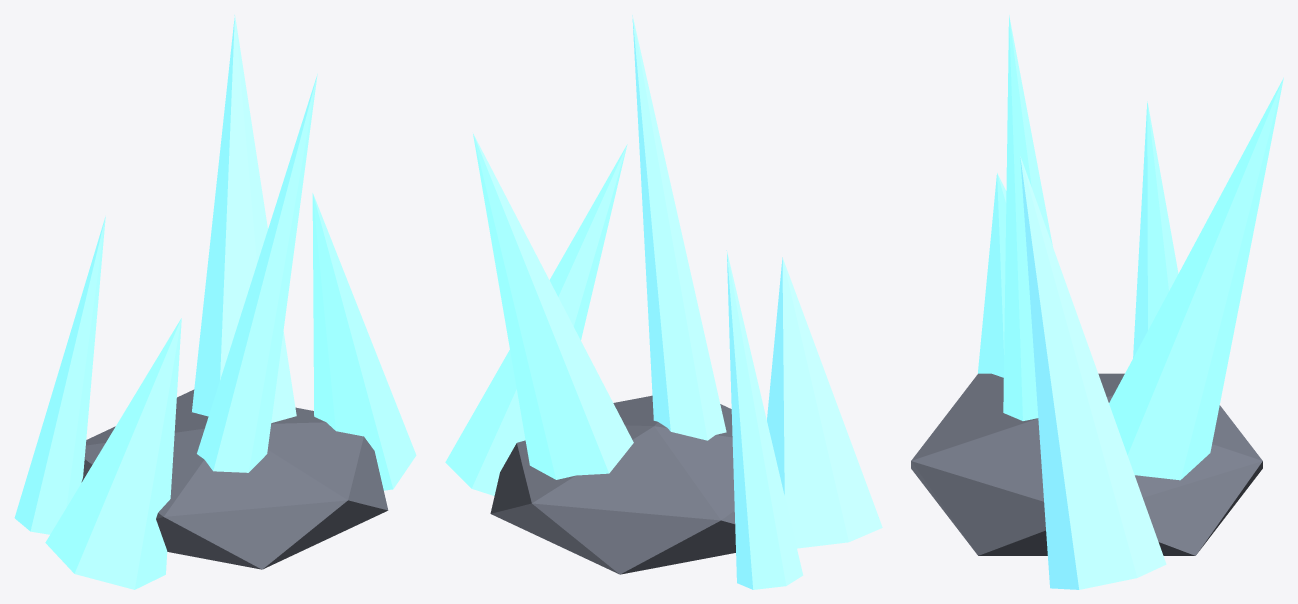
Rendered from energy_crystal.glb.
3 views of the same model, side by side, from view 1: azimuth 30°, elevation 25°; view 2: azimuth 150°, elevation 25°; view 3: azimuth 270°, elevation 25° (orthographic). The views are drawn at different scales.
Parts seen in each view (by area): view 1: CrystalBase, Crystal_3, Crystal_4, Crystal_1, Crystal_0, Crystal_2; view 2: CrystalBase, Crystal_1, Crystal_3, Crystal_4, Crystal_2, Crystal_0; view 3: Crystal_0, CrystalBase, Crystal_1, Crystal_4, Crystal_2, Crystal_3.
Boxes of the visible parts, left/top/right/bottom form: CrystalBase: left=81, top=389, right=388, bottom=569; Crystal_3: left=45, top=318, right=181, bottom=589; Crystal_4: left=197, top=74, right=317, bottom=472; Crystal_1: left=192, top=15, right=296, bottom=422; Crystal_0: left=312, top=193, right=416, bottom=490; Crystal_2: left=14, top=216, right=105, bottom=534; CrystalBase: left=490, top=395, right=735, bottom=574; Crystal_1: left=473, top=133, right=633, bottom=479; Crystal_3: left=767, top=257, right=882, bottom=548; Crystal_4: left=632, top=15, right=726, bottom=440; Crystal_2: left=726, top=250, right=803, bottom=589; Crystal_0: left=445, top=144, right=627, bottom=495; Crystal_0: left=1020, top=156, right=1166, bottom=589; CrystalBase: left=911, top=373, right=1262, bottom=555; Crystal_1: left=1109, top=77, right=1283, bottom=480; Crystal_4: left=1003, top=15, right=1052, bottom=420; Crystal_2: left=1133, top=101, right=1178, bottom=357; Crystal_3: left=977, top=173, right=1006, bottom=377.
Size of the model in its own units: 0.5403 by 0.6532 by 0.4057.
